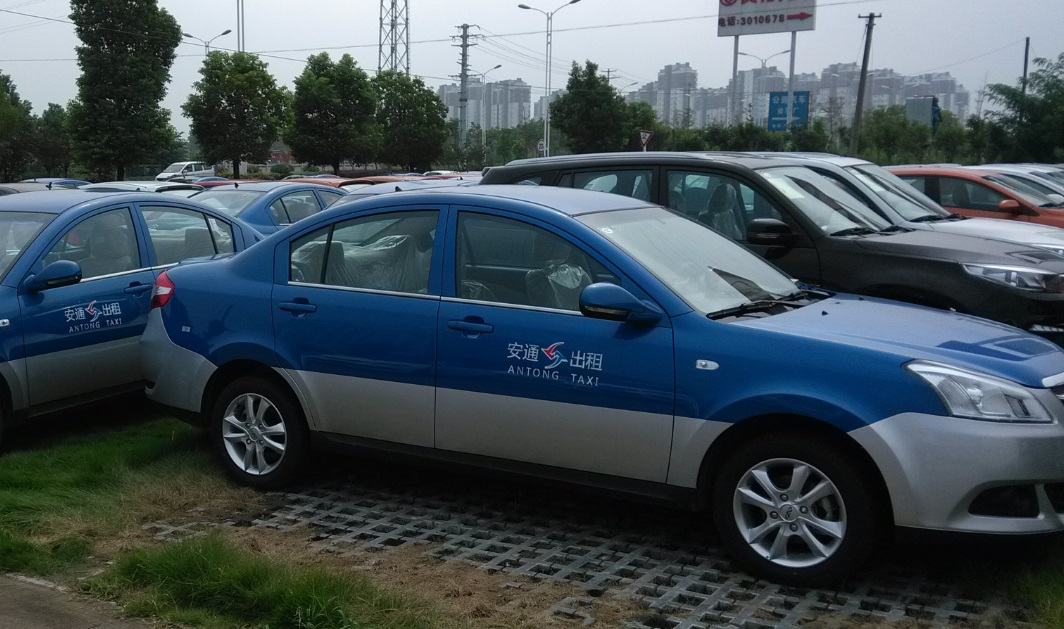taxi: (139, 177, 1064, 591)
